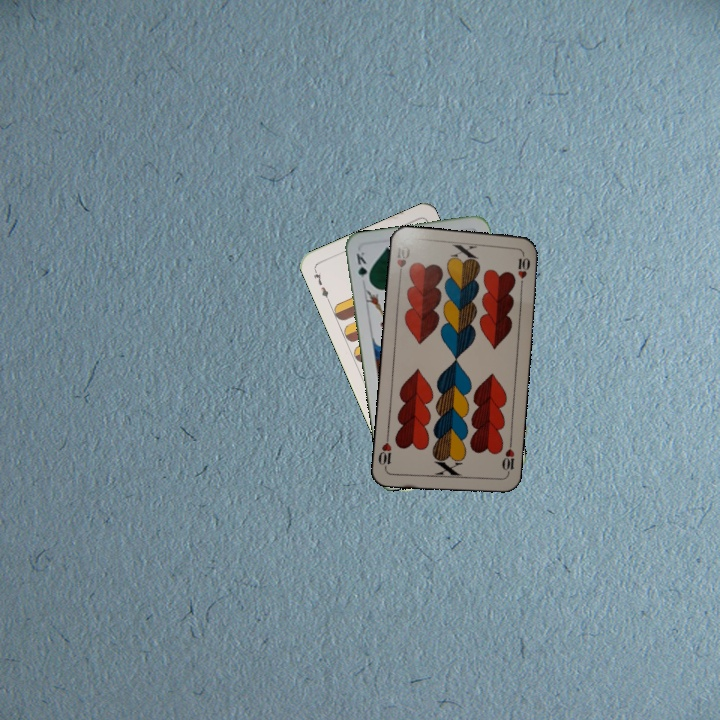E7: (310, 265, 332, 304)
GK: (352, 248, 373, 286)
H10: (393, 241, 413, 281), (498, 439, 517, 479)
